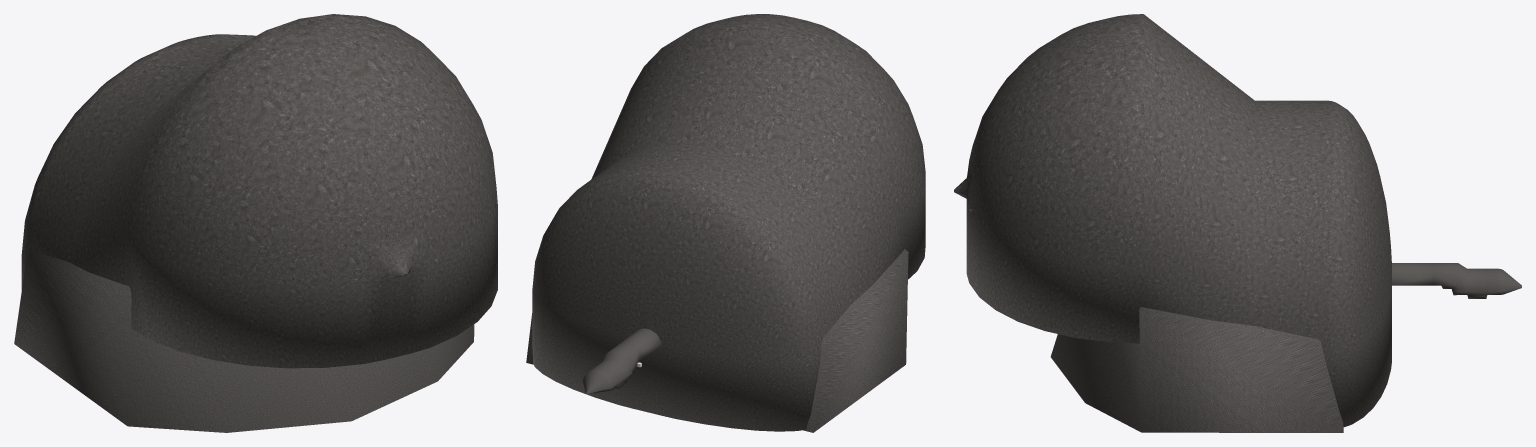
File: StomachLevel.fbx
3 renders of one model, left to right at view 1: azimuth 30°, elevation 25°; view 2: azimuth 150°, elevation 25°; view 3: azimuth 270°, elevation 25°, orthographic. The views are drawn at different scales.
Visible parts, largest first — view 1: StomachDome, StomachClimb2; view 2: StomachDome, StomachClimb2, StomachEntrance; view 3: StomachDome, StomachClimb2, StomachEntrance.
Boxes of the visible parts, box(x1,y1,x2,y2) form: StomachDome: box(21, 14, 497, 368); StomachClimb2: box(14, 250, 474, 432); StomachDome: box(532, 14, 925, 431); StomachClimb2: box(526, 249, 908, 432); StomachEntrance: box(582, 328, 662, 393); StomachDome: box(954, 14, 1391, 427); StomachClimb2: box(1050, 307, 1343, 432); StomachEntrance: box(1392, 263, 1521, 298).
Bounding box in the file's own units: 19001 × 18795 × 29615.
